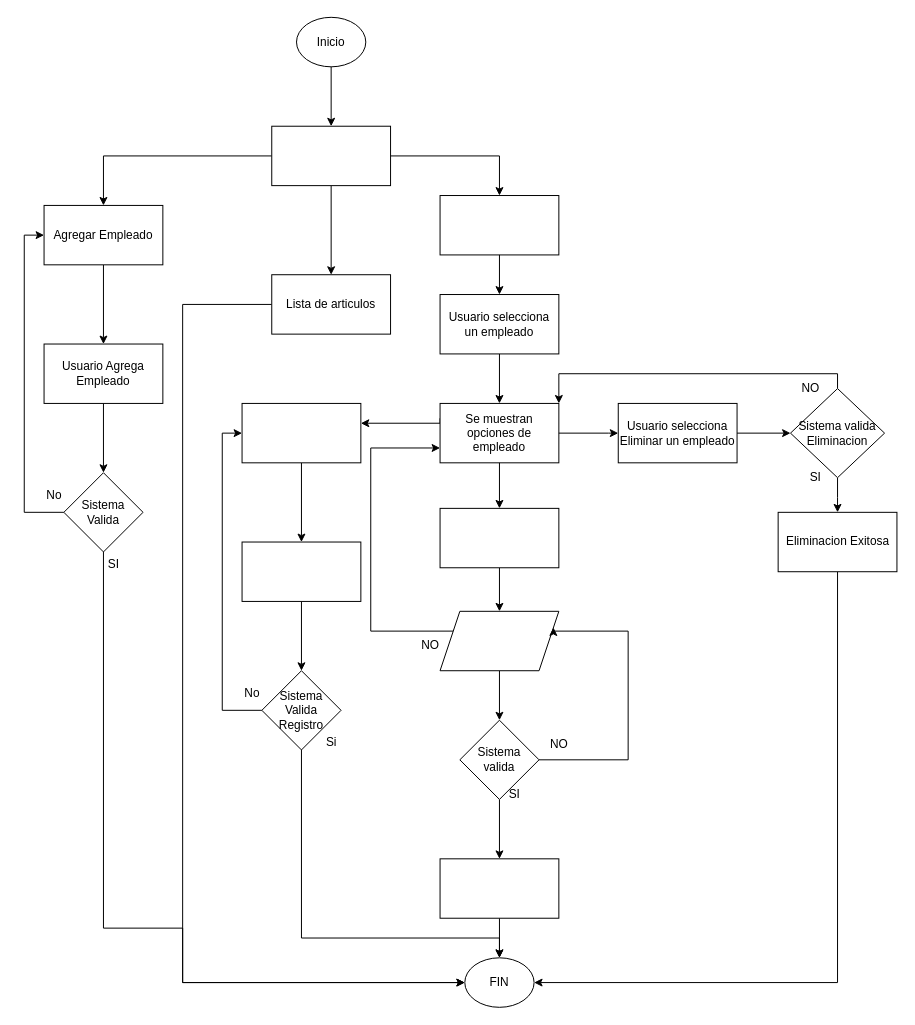
The diagram is 915 pixels wide and 1025 high, and some of its shapes have lost their labels. The box of each missing label's shape, as (x1, y1, x2, y2) in pixels:
Lista de empleados: (439, 195, 559, 255)
Modificacion Exitosa: (439, 858, 559, 918)
Sistema Muestra Opciones: (271, 125, 391, 186)
Usuario hace modificación: (439, 610, 559, 671)
Usuario Registra Poliza: (241, 541, 361, 601)
Usuario selecciona Añadir poliza: (241, 402, 361, 463)
Usuario selecciona poliza de empleado: (439, 507, 559, 568)
